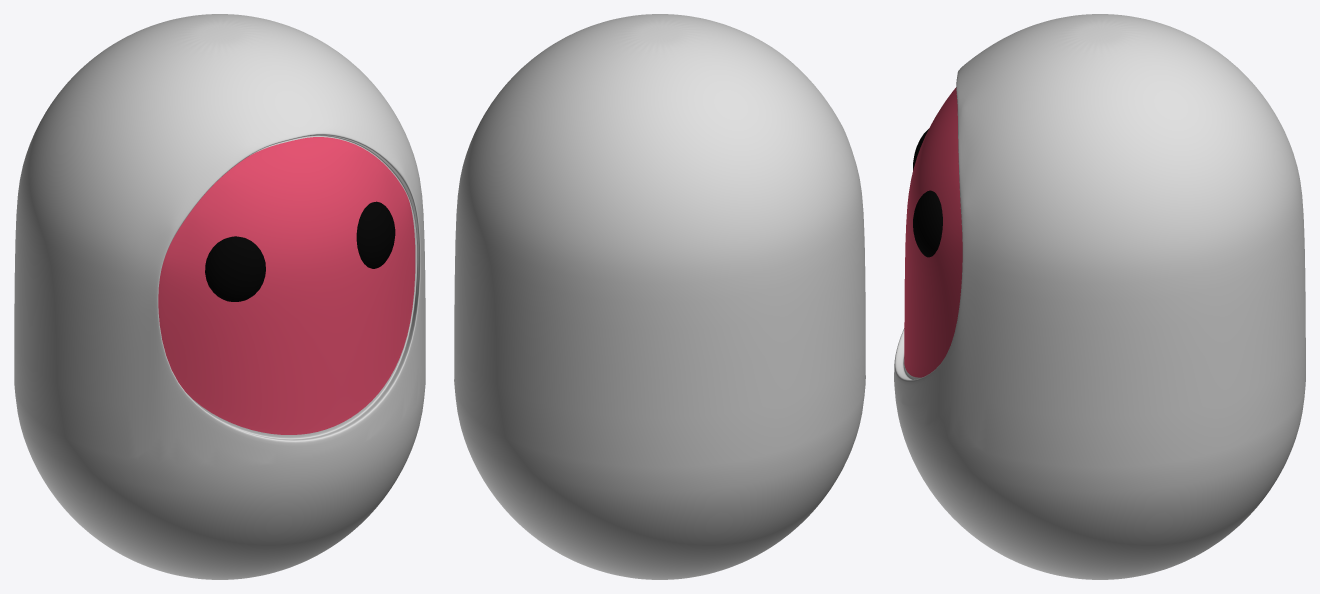
The model's file is (Msh)CharacterSmall.fbx.
The picture shows the model from 3 angles, left to right: view 1: azimuth 30°, elevation 25°; view 2: azimuth 150°, elevation 25°; view 3: azimuth 270°, elevation 25°; orthographic projection.
Visible parts, largest first — view 1: body.001, eyes.001; view 2: body.001; view 3: body.001, eyes.001.
Part boxes in pixels (left/top/right/bottom): body.001: left=14, top=14, right=425, bottom=579; eyes.001: left=205, top=201, right=395, bottom=301; body.001: left=454, top=14, right=865, bottom=579; body.001: left=894, top=14, right=1305, bottom=579; eyes.001: left=913, top=129, right=942, bottom=257.
Bounding box in the file's own units: 107 × 151 × 107.
